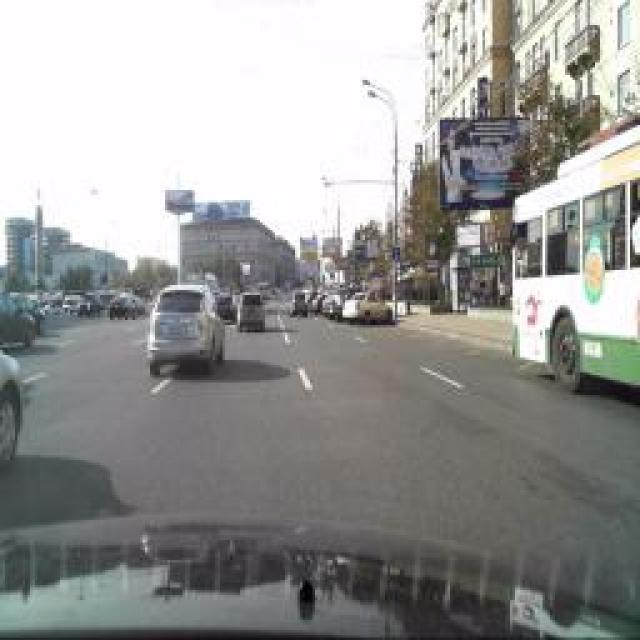sign: (391, 245, 401, 265)
